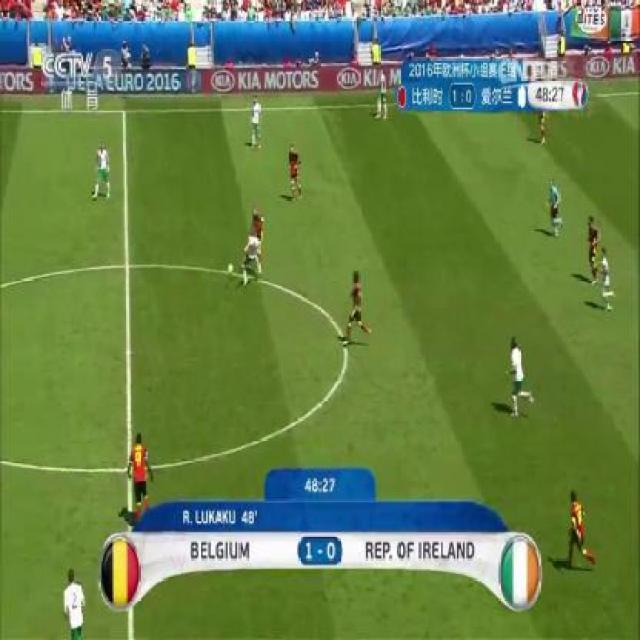ball: (227, 259, 236, 274)
player: (120, 425, 155, 521), (501, 335, 541, 417), (560, 485, 598, 571), (340, 264, 378, 345), (57, 562, 89, 640), (284, 142, 310, 201), (90, 139, 113, 202), (245, 89, 266, 150), (369, 63, 392, 117), (243, 226, 261, 287), (584, 209, 598, 287), (602, 241, 612, 310), (248, 206, 267, 231)
referee: (544, 171, 565, 238)
